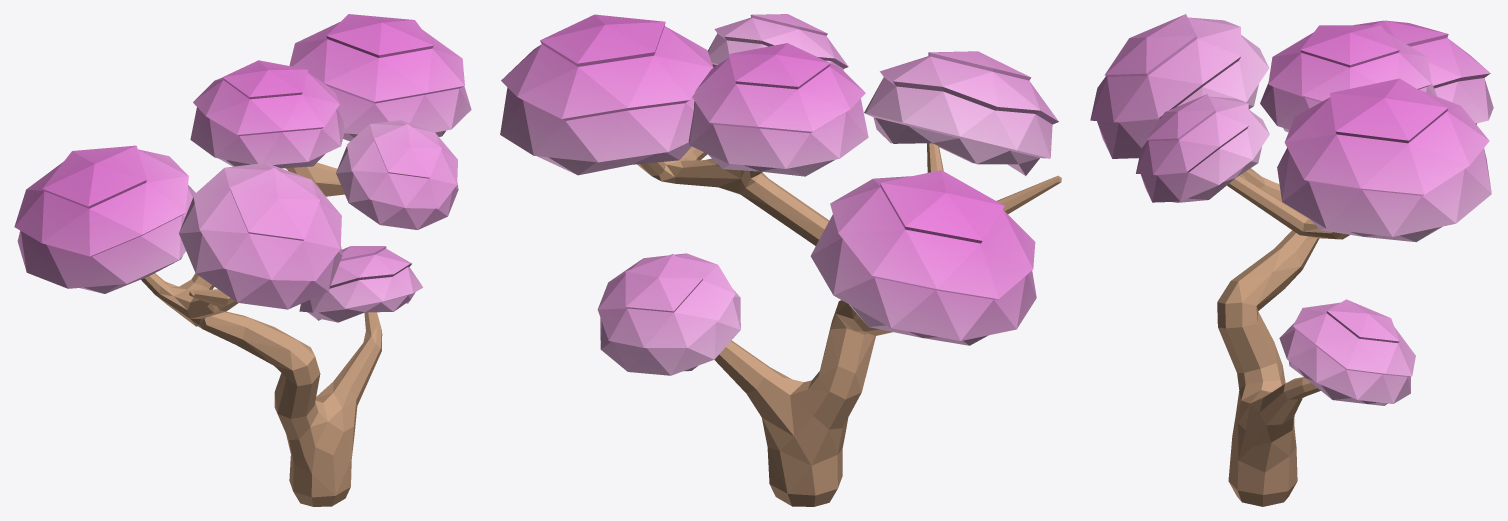
Rendered from Tree_Cherry_2.fbx.
The picture shows the model from 3 angles, left to right: view 1: azimuth 30°, elevation 25°; view 2: azimuth 150°, elevation 25°; view 3: azimuth 270°, elevation 25°; orthographic projection. The views are drawn at different scales.
Parts seen in each view (by area): view 1: Leaves.010, Leaves.007, Cube.001, Leaves.008, Leaves.006, Leaves.009, Leaves.011; view 2: Leaves.010, Leaves.008, Cube.001, Leaves.006, Leaves.007, Leaves.011, Leaves.009; view 3: Leaves.008, Cube.001, Leaves.007, Leaves.011, Leaves.009, Leaves.006, Leaves.010.
Part boxes in pixels (box(x1,y1,x2,y2)): Leaves.010: box(14, 145, 195, 293); Leaves.007: box(179, 163, 342, 309); Cube.001: box(141, 162, 382, 506); Leaves.008: box(289, 14, 471, 141); Leaves.006: box(190, 60, 344, 168); Leaves.009: box(336, 120, 458, 229); Leaves.011: box(299, 246, 422, 322); Leaves.010: box(810, 170, 1036, 345); Leaves.008: box(500, 14, 713, 175); Cube.001: box(637, 143, 1061, 506); Leaves.006: box(688, 43, 868, 176); Leaves.007: box(864, 51, 1058, 175); Leaves.011: box(597, 253, 740, 375); Leaves.009: box(708, 14, 848, 70); Leaves.008: box(1277, 78, 1491, 242); Cube.001: box(1217, 168, 1349, 506); Leaves.007: box(1090, 14, 1269, 158); Leaves.011: box(1279, 299, 1415, 405); Leaves.009: box(1136, 94, 1269, 202); Leaves.006: box(1260, 25, 1437, 132); Leaves.010: box(1353, 20, 1493, 124).
Size of the model in its own units: 409 by 378 by 296.
3 materials, 2 textured.
